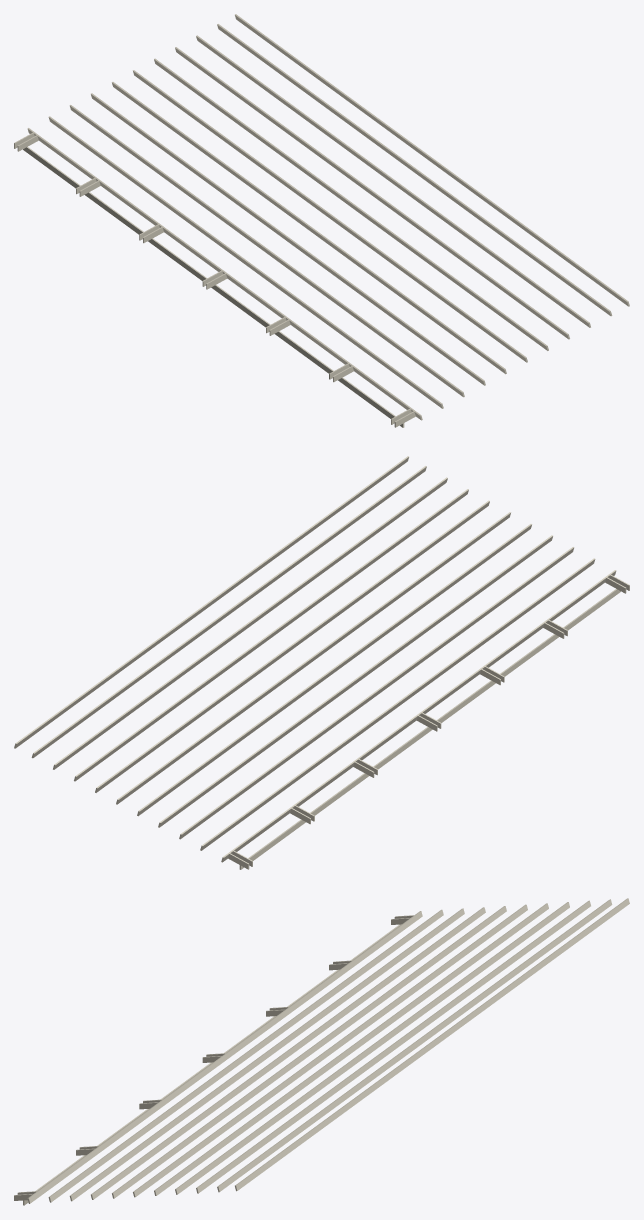
File: frame_up_1.gltf
3 renders of one model, top to bottom at view 1: azimuth 30°, elevation 25°; view 2: azimuth 150°, elevation 25°; view 3: azimuth 330°, elevation 25°, orthographic.
Visible parts, largest first — view 1: 3DGeom-16 (×11), 3DGeom-15; view 2: 3DGeom-16 (×11), 3DGeom-15; view 3: 3DGeom-16 (×11), 3DGeom-15.
Boxes of the visible parts, left/top/right/bottom form: 3DGeom-16 (×11): left=27, top=14, right=629, bottom=420; 3DGeom-15: left=23, top=147, right=404, bottom=427; 3DGeom-16 (×11): left=14, top=456, right=616, bottom=862; 3DGeom-15: left=239, top=589, right=620, bottom=869; 3DGeom-16 (×11): left=27, top=898, right=629, bottom=1203; 3DGeom-15: left=23, top=924, right=401, bottom=1205.
Bounding box in the file's own units: 6.36 × 2.06 × 18.9.
